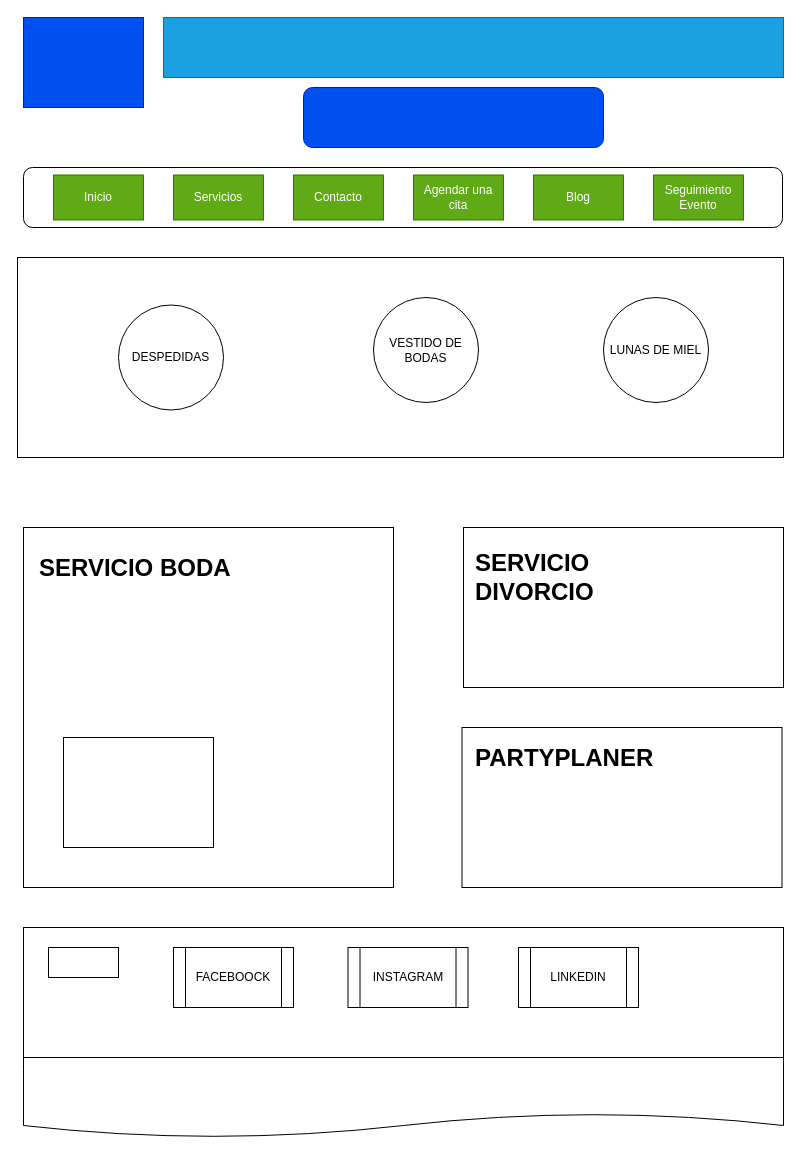
The diagram is 801 pixels wide and 1155 high, and some of its shapes have lost their labels. Here are the shapes that lost their labels. From the top down, the box of each, then its label:
(22, 16, 144, 108): Logo
(162, 16, 784, 78): Titulo de la pagina
(302, 86, 604, 148): Sub titulo de la pagina
(62, 736, 214, 848): FOTO 1
(48, 946, 118, 978): REDES SOCIALES
(22, 1056, 784, 1138): DERECHOS Y PRIVACIDAD DE LA PAGINA WEB
